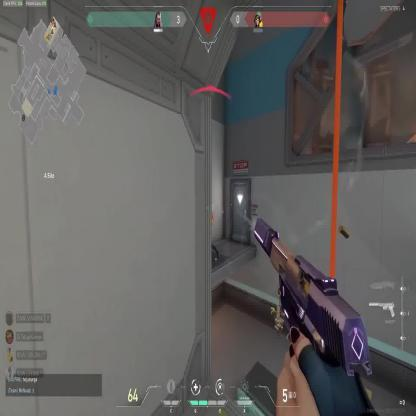enemy: (198, 199, 214, 252)
